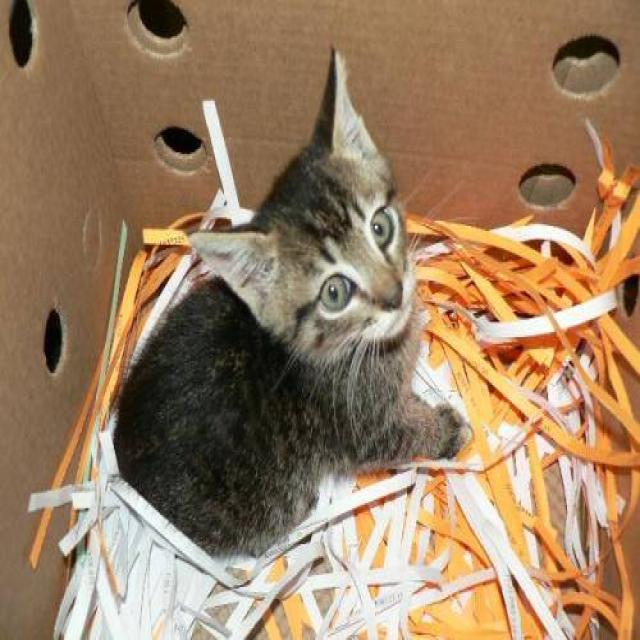cat: (110, 43, 472, 561)
